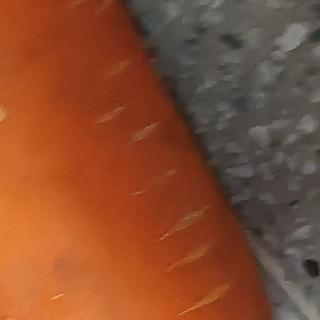carrot: (0, 0, 282, 320)
